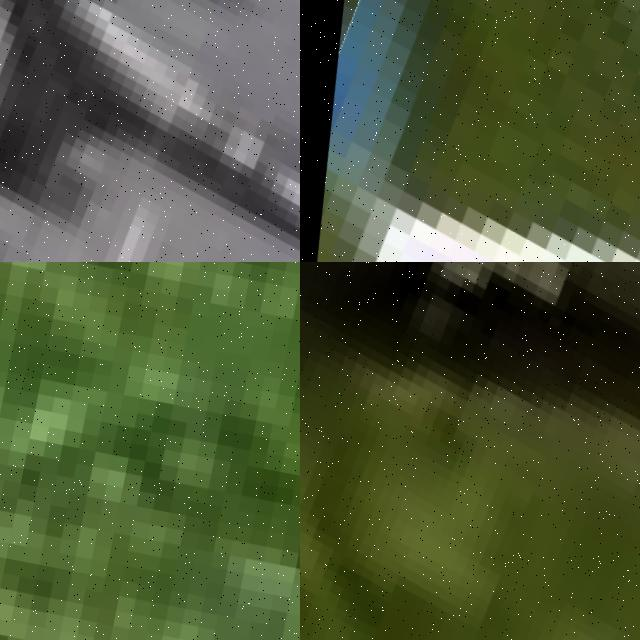drone: (300, 262, 640, 640), (300, 0, 640, 262), (0, 0, 300, 262)
